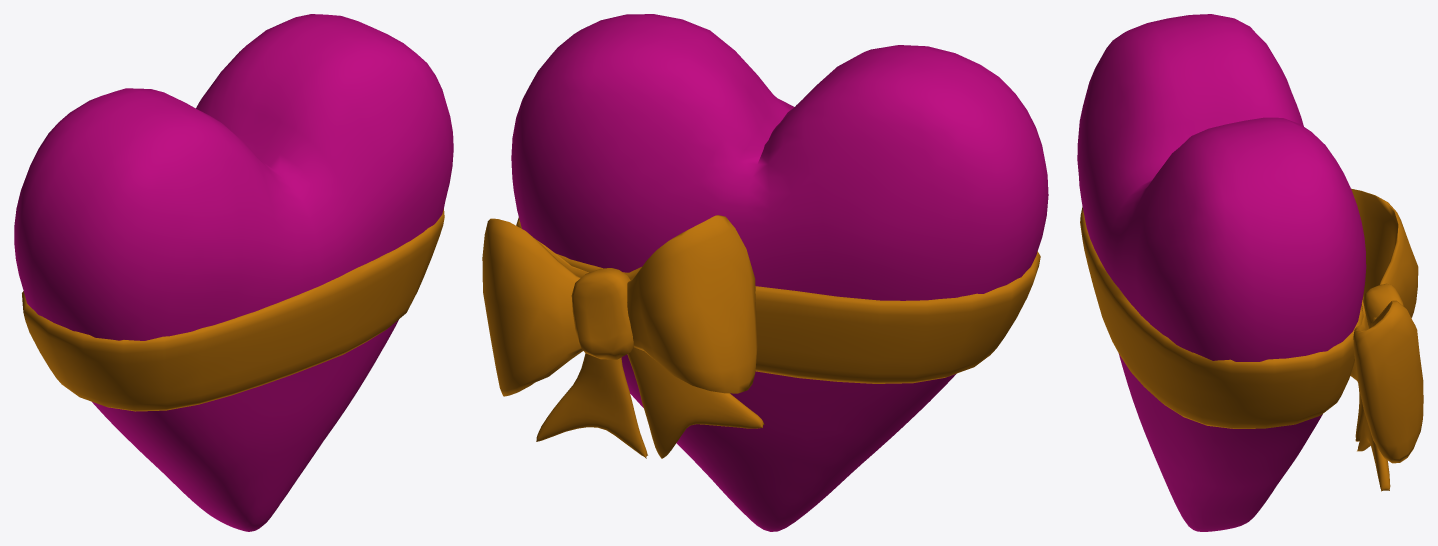
Rendered from heart-with-bow.FBX.
The picture shows the model from 3 angles, left to right: view 1: azimuth 30°, elevation 25°; view 2: azimuth 150°, elevation 25°; view 3: azimuth 270°, elevation 25°; orthographic projection. The views are drawn at different scales.
Visible parts, largest first — view 1: Hb2, heart_with_bow; view 2: Hb2, Hb3, heart_with_bow, Hb4, Hb5; view 3: Hb2, heart_with_bow, Hb3, Hb4, Hb5.
Part boxes in pixels (left/top/right/bottom): Hb2: left=14, top=14, right=453, bottom=531; heart_with_bow: left=22, top=209, right=444, bottom=411; Hb2: left=511, top=14, right=1048, bottom=531; Hb3: left=482, top=215, right=757, bottom=396; heart_with_bow: left=516, top=217, right=1040, bottom=383; Hb4: left=536, top=347, right=764, bottom=458; Hb5: left=571, top=268, right=633, bottom=359; Hb2: left=1077, top=14, right=1366, bottom=531; heart_with_bow: left=1080, top=206, right=1363, bottom=428; Hb3: left=1351, top=188, right=1423, bottom=463; Hb4: left=1350, top=361, right=1390, bottom=491; Hb5: left=1363, top=283, right=1403, bottom=328.
Bounding box in the file's own units: 17.6 × 17.32 × 12.1.
